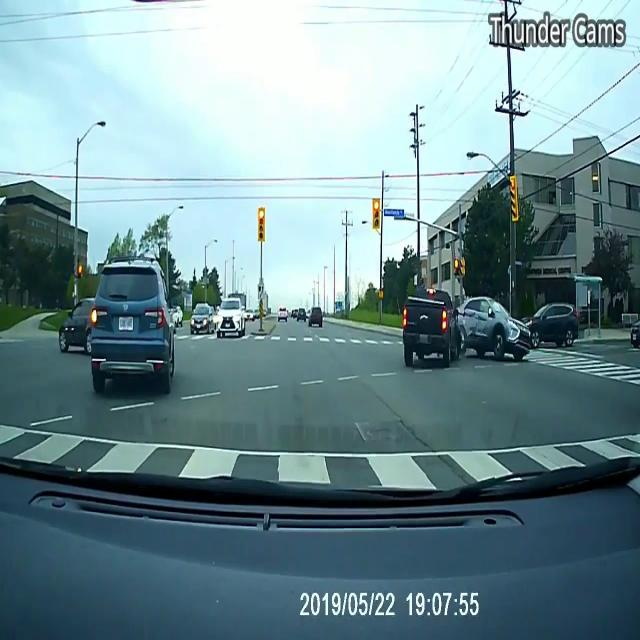accident: (393, 273, 537, 383)
